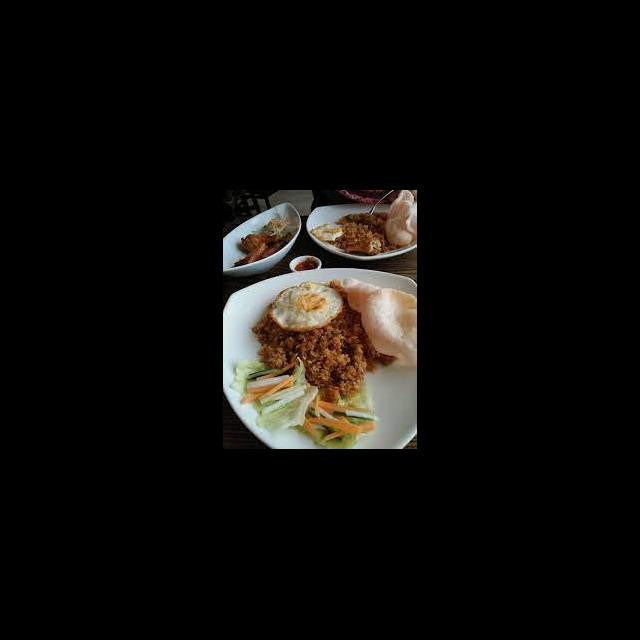food_waste: (274, 299, 392, 426)
